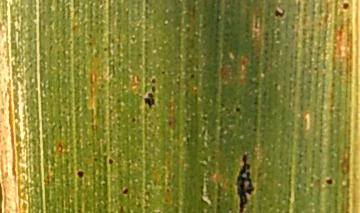tarspot: (234, 150, 256, 213), (142, 92, 157, 112), (272, 6, 288, 21), (322, 174, 336, 187), (76, 166, 85, 184), (119, 184, 132, 196), (105, 156, 117, 166), (146, 84, 161, 92), (340, 1, 351, 11), (147, 75, 159, 84), (233, 104, 243, 114)
